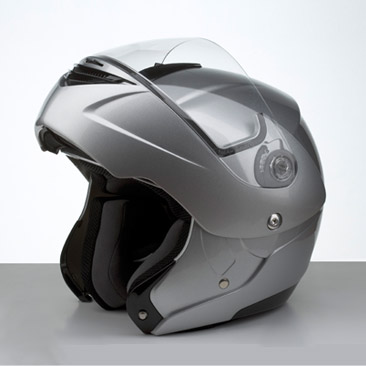helmet: (29, 45, 347, 313)
